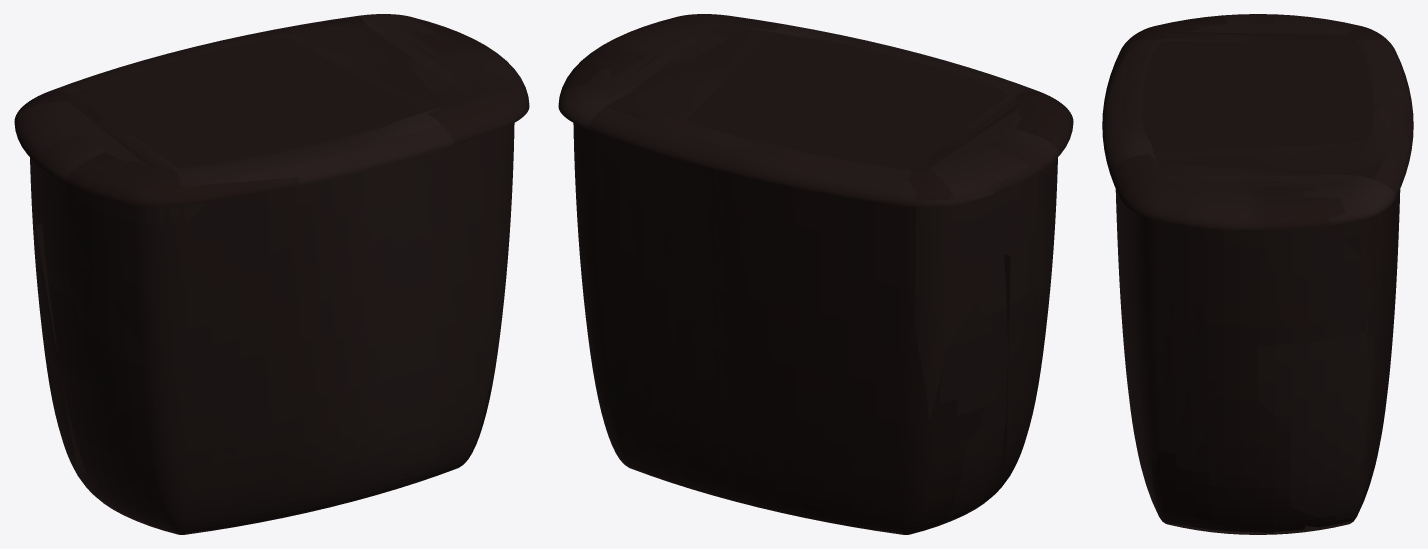
File: trash_0.glb
The picture shows the model from 3 angles, left to right: view 1: azimuth 30°, elevation 25°; view 2: azimuth 150°, elevation 25°; view 3: azimuth 270°, elevation 25°; orthographic projection. The views are drawn at different scales.
Visible parts, largest first — view 1: trash_0; view 2: trash_0; view 3: trash_0.
Boxes of the visible parts, x1,y1,x2,y2 form: trash_0: (14, 14, 529, 534); trash_0: (558, 14, 1073, 534); trash_0: (1102, 14, 1413, 534).
Bounding box in the file's own units: 0.8072 × 0.6255 × 0.5024.
Materials: 1 (1 with a texture image).
